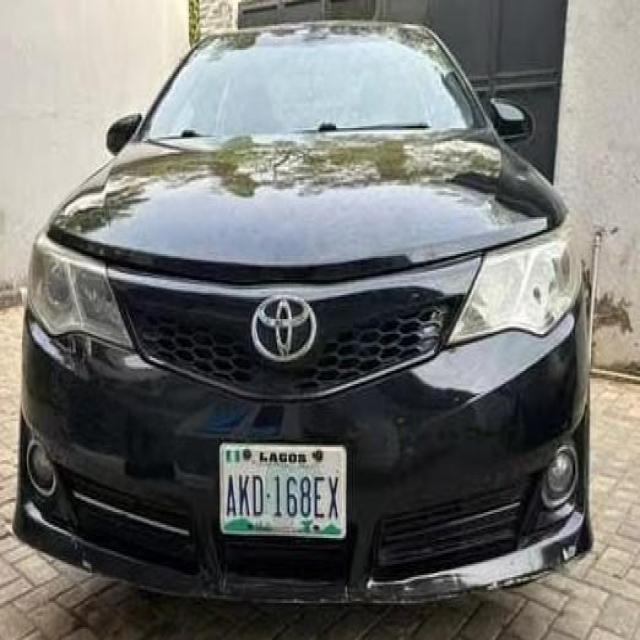Nigerian License Plate - vdataset benjamin-daria: (218, 440, 349, 545)
